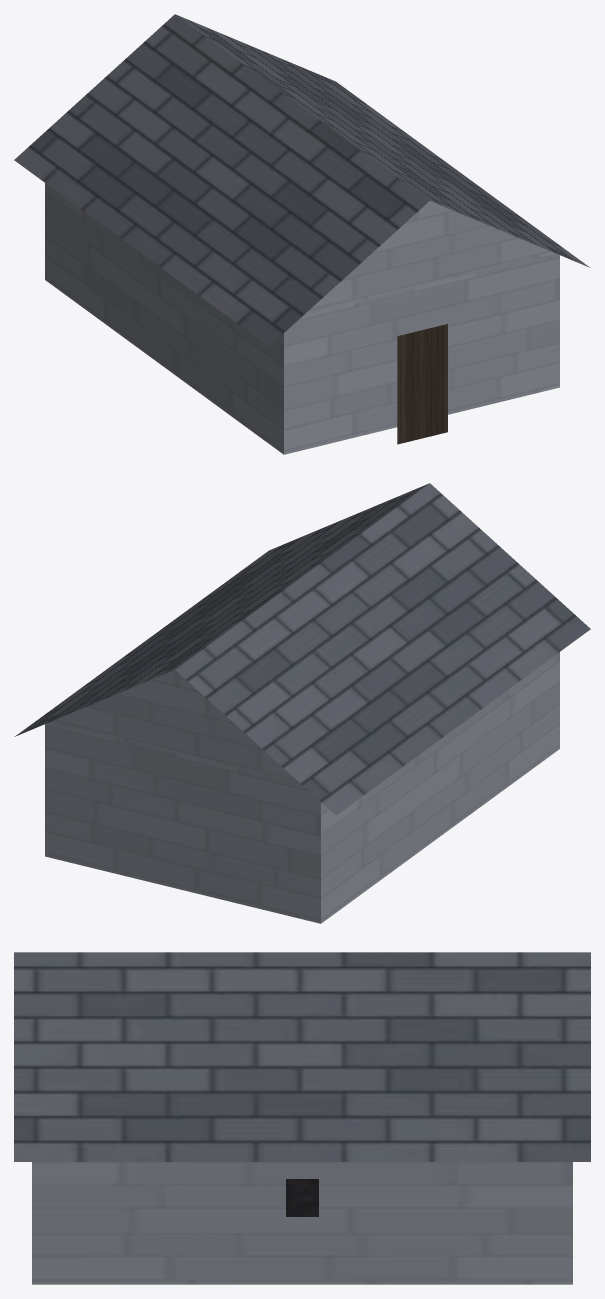
The model's file is ae_snow_stone_large_hall_lod2.glb.
The picture shows the model from 3 angles, top to bottom: view 1: azimuth 30°, elevation 25°; view 2: azimuth 150°, elevation 25°; view 3: azimuth 270°, elevation 25°; orthographic projection. The views are drawn at different scales.
Visible parts, largest first — view 1: ae_snow_stone_large_hall_lod2; view 2: ae_snow_stone_large_hall_lod2; view 3: ae_snow_stone_large_hall_lod2.
Part boxes in pixels (x1=…): ae_snow_stone_large_hall_lod2: x1=14, y1=14, x2=590, y2=454; ae_snow_stone_large_hall_lod2: x1=14, y1=483, x2=590, y2=923; ae_snow_stone_large_hall_lod2: x1=14, y1=952, x2=590, y2=1284.
Size of the model in its own units: 7 by 5.05 by 9.6.
1 material, 1 textured.
